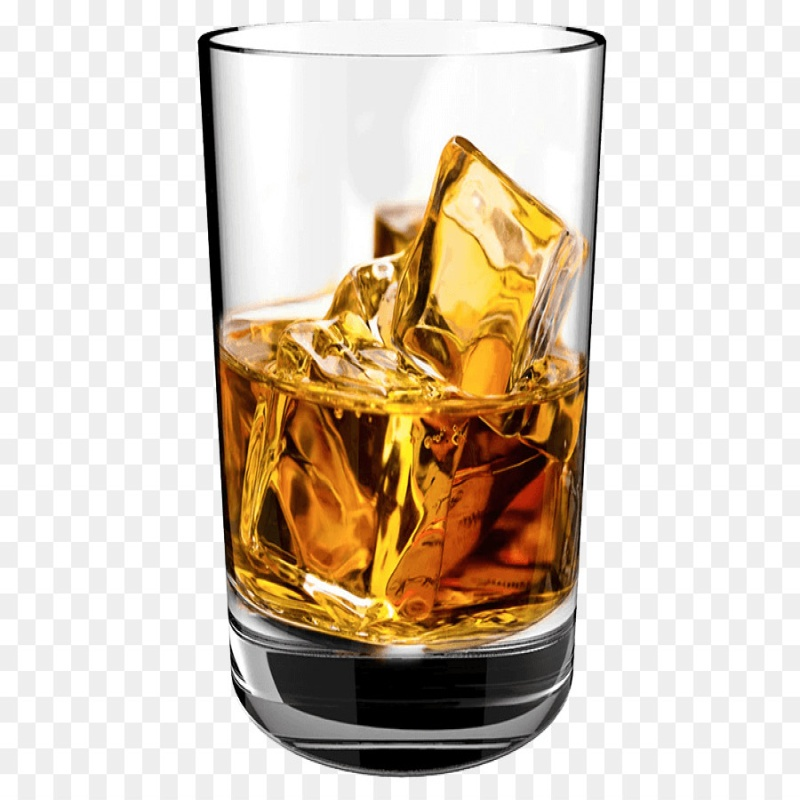whiskey: (200, 21, 604, 755)
